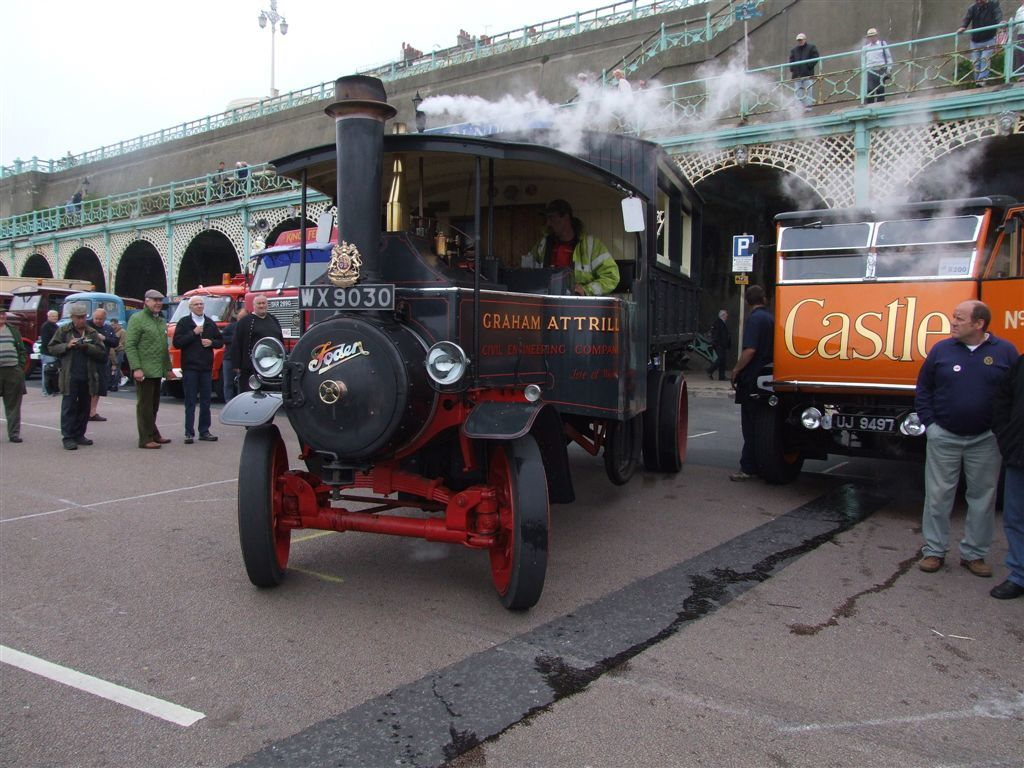Bus: (248, 241, 348, 364), (167, 268, 245, 385)
